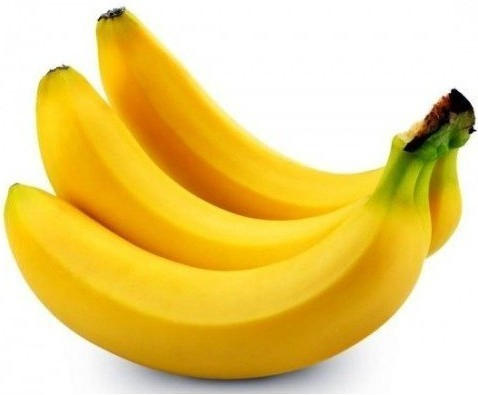banana: (7, 18, 447, 380)
